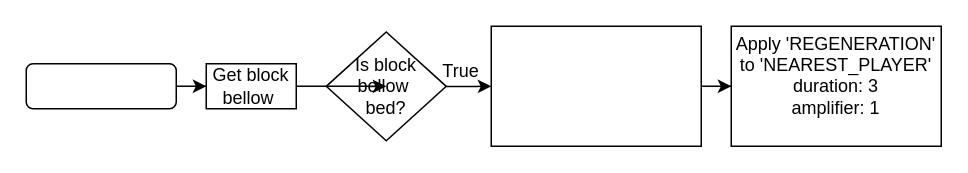
The diagram is 968 pixels wide and 173 high, and some of its shapes have lost their labels. Each missing label, with the box of its shape:
Apply 'LEVITATION' to 'NEAREST_PLAYER' duration: 2 amplifier: 1: (490, 25, 701, 146)
On Player Jump: (25, 62, 176, 109)
